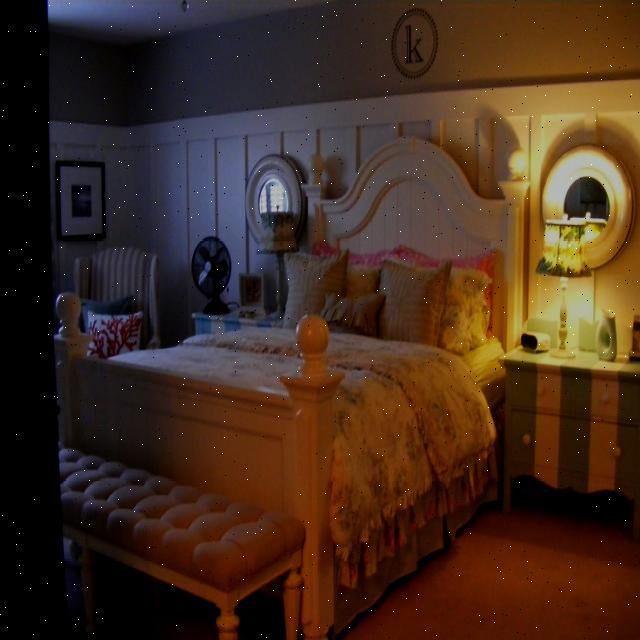bed: (100, 241, 518, 498)
